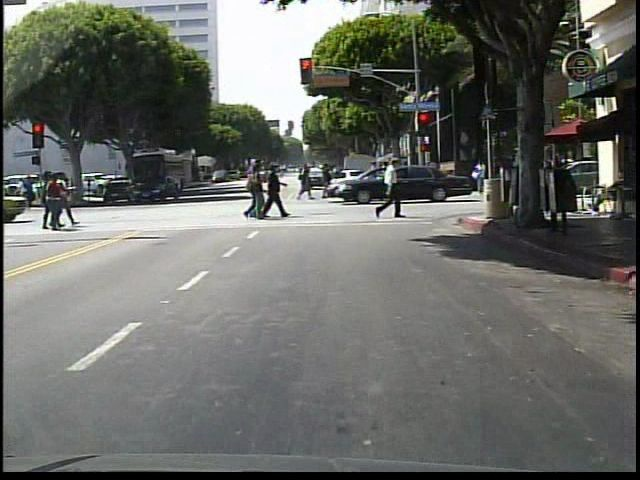person: (369, 154, 412, 225)
